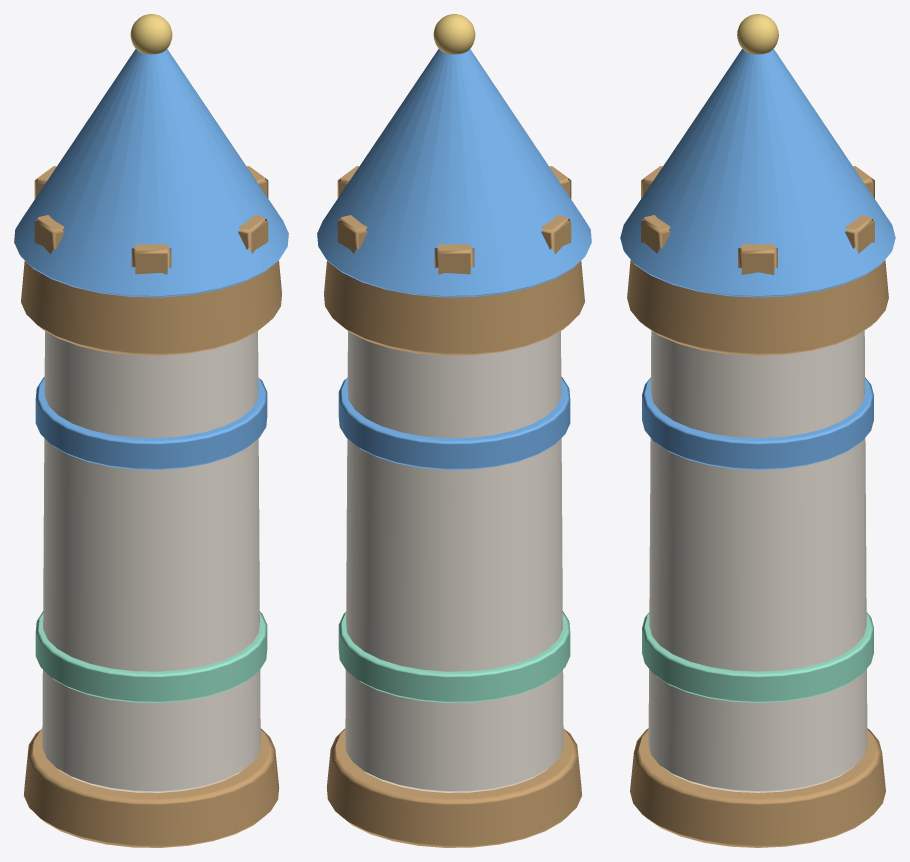
File: castle_tower_blue.glb
3 views of the same model, side by side, from view 1: azimuth 30°, elevation 25°; view 2: azimuth 150°, elevation 25°; view 3: azimuth 270°, elevation 25° (orthographic).
Parts seen in each view (by area): view 1: Body, Roof, Base, TopGallery, Band_4.5, Band_1.8, Finial, Tooth_4, Tooth_5, Tooth_3; view 2: Body, Roof, Base, TopGallery, Band_4.5, Band_1.8, Finial, Tooth_2, Tooth_1, Tooth_3; view 3: Body, Roof, Base, TopGallery, Band_4.5, Band_1.8, Finial, Tooth_0, Tooth_1, Tooth_5.
Boxes of the visible parts, x1=… form: Body: x1=42, y1=331, x2=260, y2=792; Roof: x1=14, y1=49, x2=288, y2=297; Base: x1=23, y1=728, x2=279, y2=847; TopGallery: x1=21, y1=261, x2=281, y2=355; Band_4.5: x1=35, y1=377, x2=267, y2=469; Band_1.8: x1=35, y1=611, x2=267, y2=702; Finial: x1=130, y1=14, x2=172, y2=54; Tooth_4: x1=131, y1=244, x2=171, y2=274; Tooth_5: x1=238, y1=215, x2=268, y2=253; Tooth_3: x1=34, y1=215, x2=64, y2=254; Body: x1=345, y1=331, x2=563, y2=792; Roof: x1=317, y1=49, x2=591, y2=297; Base: x1=326, y1=728, x2=582, y2=847; TopGallery: x1=324, y1=261, x2=584, y2=355; Band_4.5: x1=338, y1=377, x2=570, y2=469; Band_1.8: x1=338, y1=611, x2=570, y2=702; Finial: x1=433, y1=14, x2=475, y2=54; Tooth_2: x1=434, y1=244, x2=474, y2=274; Tooth_1: x1=337, y1=215, x2=367, y2=253; Tooth_3: x1=541, y1=215, x2=571, y2=254; Body: x1=648, y1=330, x2=867, y2=792; Roof: x1=620, y1=49, x2=895, y2=297; Base: x1=630, y1=728, x2=885, y2=847; TopGallery: x1=627, y1=260, x2=888, y2=355; Band_4.5: x1=642, y1=377, x2=873, y2=469; Band_1.8: x1=642, y1=612, x2=873, y2=702; Finial: x1=737, y1=14, x2=778, y2=54; Tooth_0: x1=738, y1=244, x2=777, y2=274; Tooth_1: x1=845, y1=215, x2=874, y2=253; Tooth_5: x1=641, y1=215, x2=670, y2=253.
Bounding box in the file's own units: 2.89 × 9.04 × 2.89.
